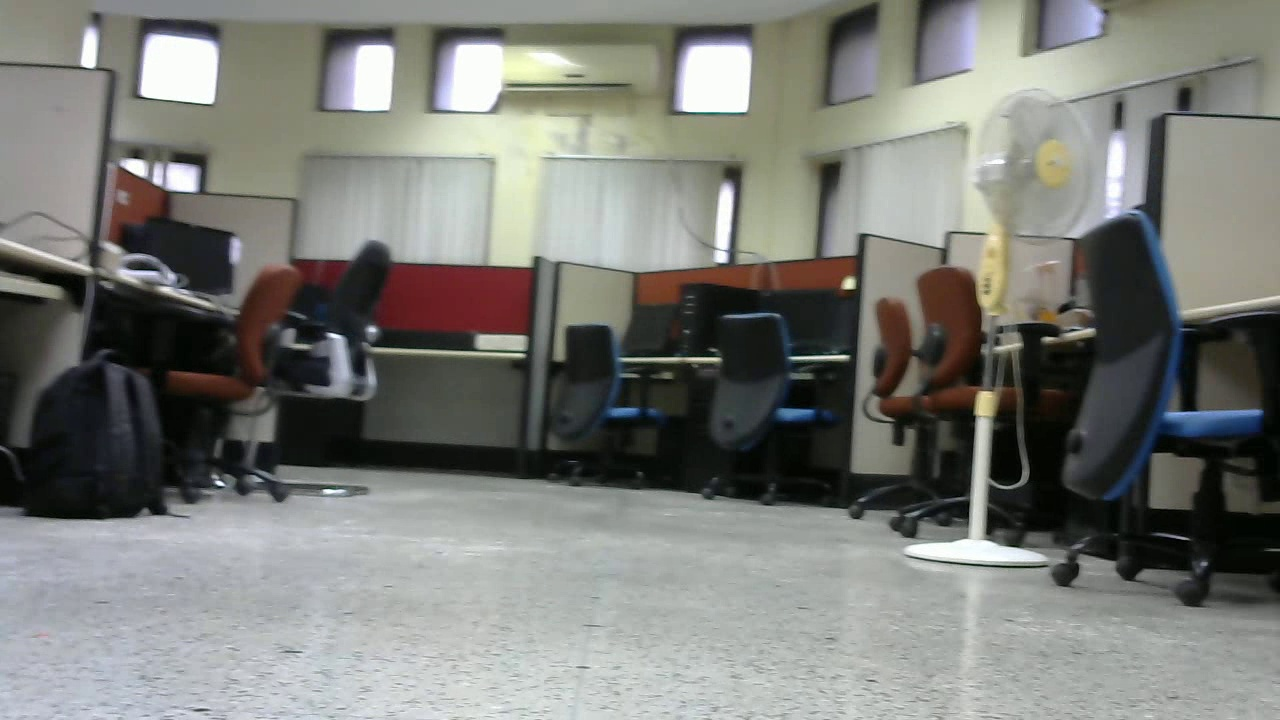chair: (1056, 212, 1280, 605), (909, 268, 1052, 546), (144, 257, 290, 494), (691, 296, 843, 512), (290, 229, 394, 508), (543, 313, 686, 495), (843, 291, 919, 519)
